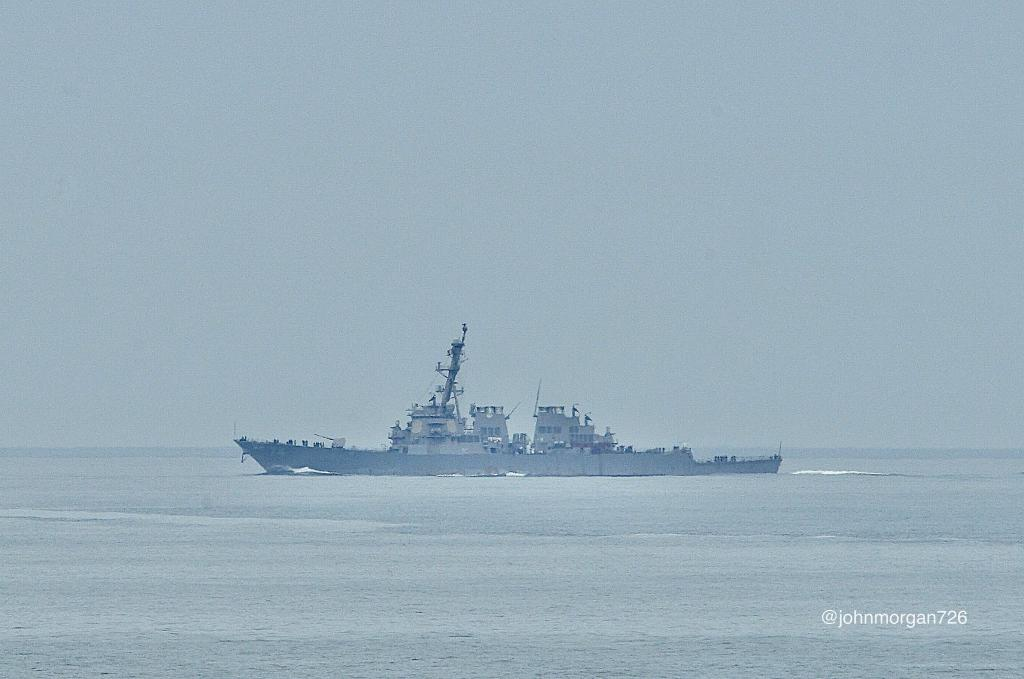Warship: (230, 318, 788, 479)
